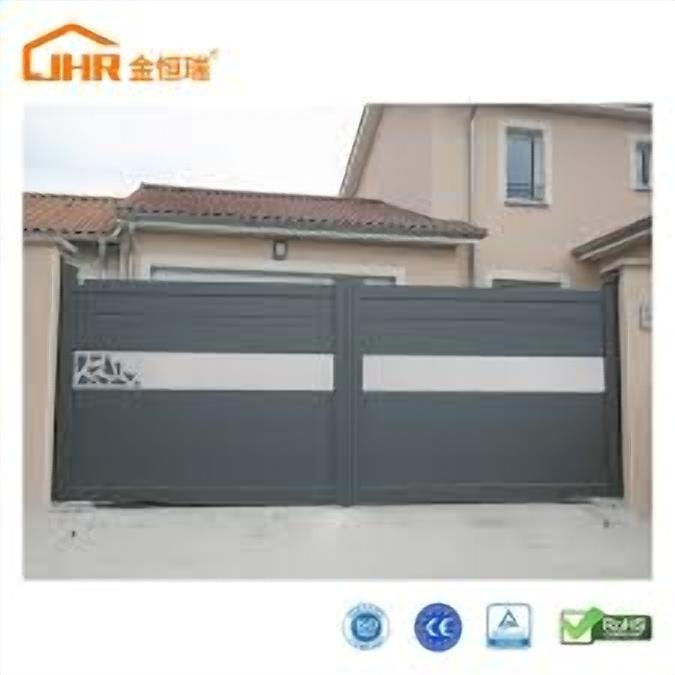Building: (21, 101, 653, 461)
Gate: (54, 282, 625, 507)
Window-without-grill: (506, 128, 545, 205), (629, 140, 653, 191)
